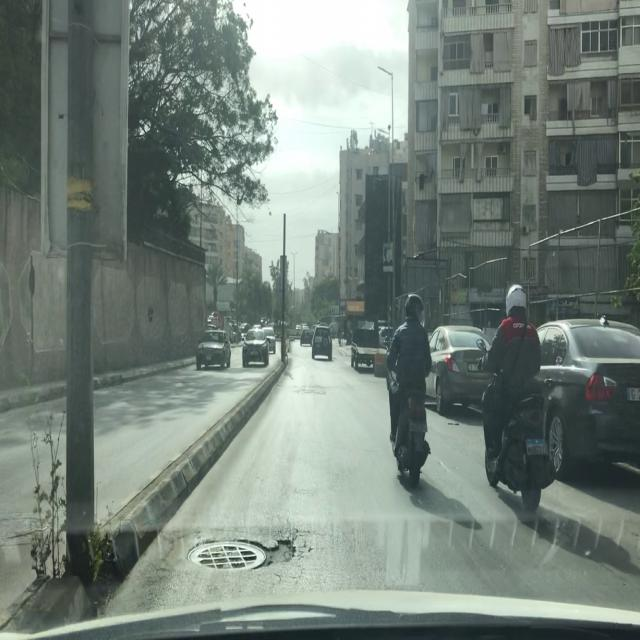Pothole: (266, 533, 305, 580)
